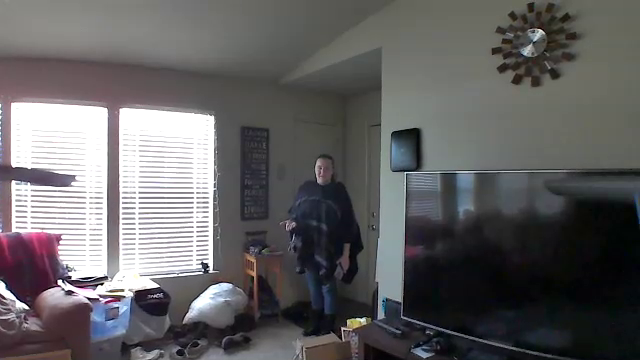land: (277, 215, 301, 234)
